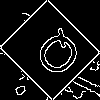Q: (25, 25, 87, 87)
